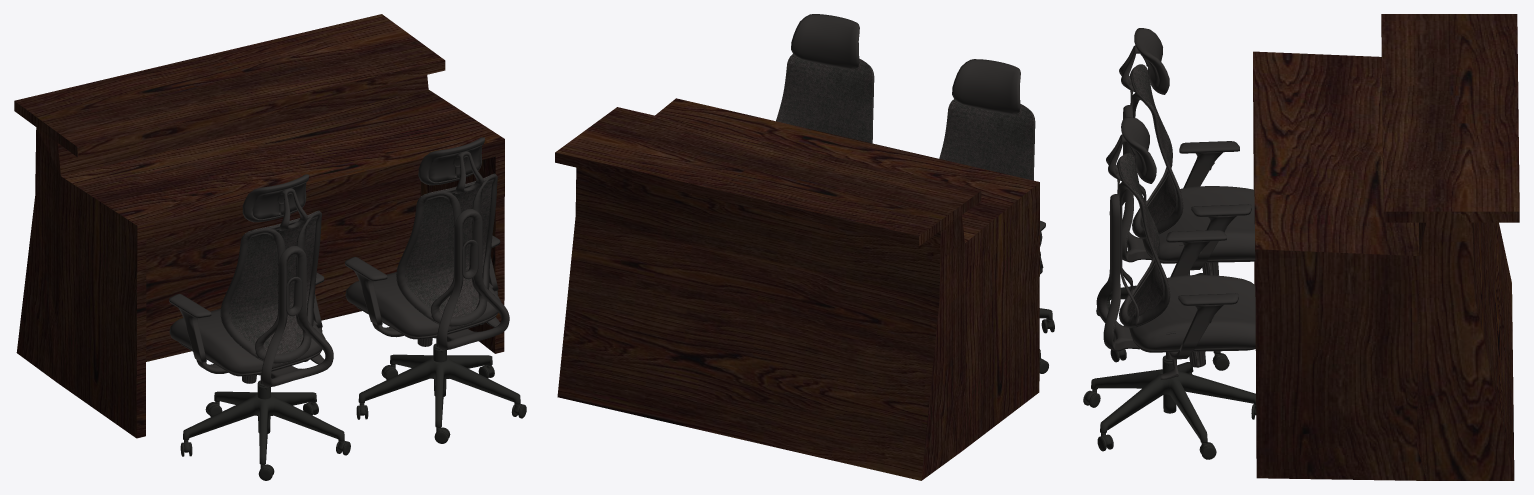
File: study_1.glb
3 views of the same model, side by side, from view 1: azimuth 30°, elevation 25°; view 2: azimuth 150°, elevation 25°; view 3: azimuth 270°, elevation 25° (orthographic). The views are drawn at different scales.
Visible parts, largest first — view 1: Loft001_Desk_0.004, Loft001_Desk_0.005, Loft001_Desk_0.006; view 2: Loft001_Desk_0.004, Loft001_Desk_0.006, Loft001_Desk_0.005; view 3: Loft001_Desk_0.004, Loft001_Desk_0.006, Loft001_Desk_0.005.
Part boxes in pixels (x1,y1,x2,y2): Loft001_Desk_0.004: [14, 14, 504, 438]; Loft001_Desk_0.005: [169, 174, 350, 480]; Loft001_Desk_0.006: [345, 137, 526, 443]; Loft001_Desk_0.004: [555, 98, 1039, 480]; Loft001_Desk_0.006: [776, 14, 874, 143]; Loft001_Desk_0.005: [939, 59, 1054, 373]; Loft001_Desk_0.004: [1253, 14, 1519, 480]; Loft001_Desk_0.006: [1083, 117, 1256, 459]; Loft001_Desk_0.005: [1096, 28, 1255, 370].
Size of the model in its own units: 1.58 by 1.14 by 1.51.
5 materials, 5 textured.
